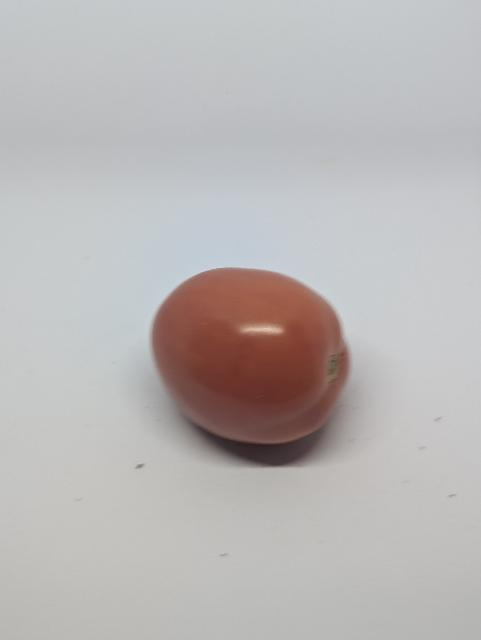red: (136, 261, 378, 483)
